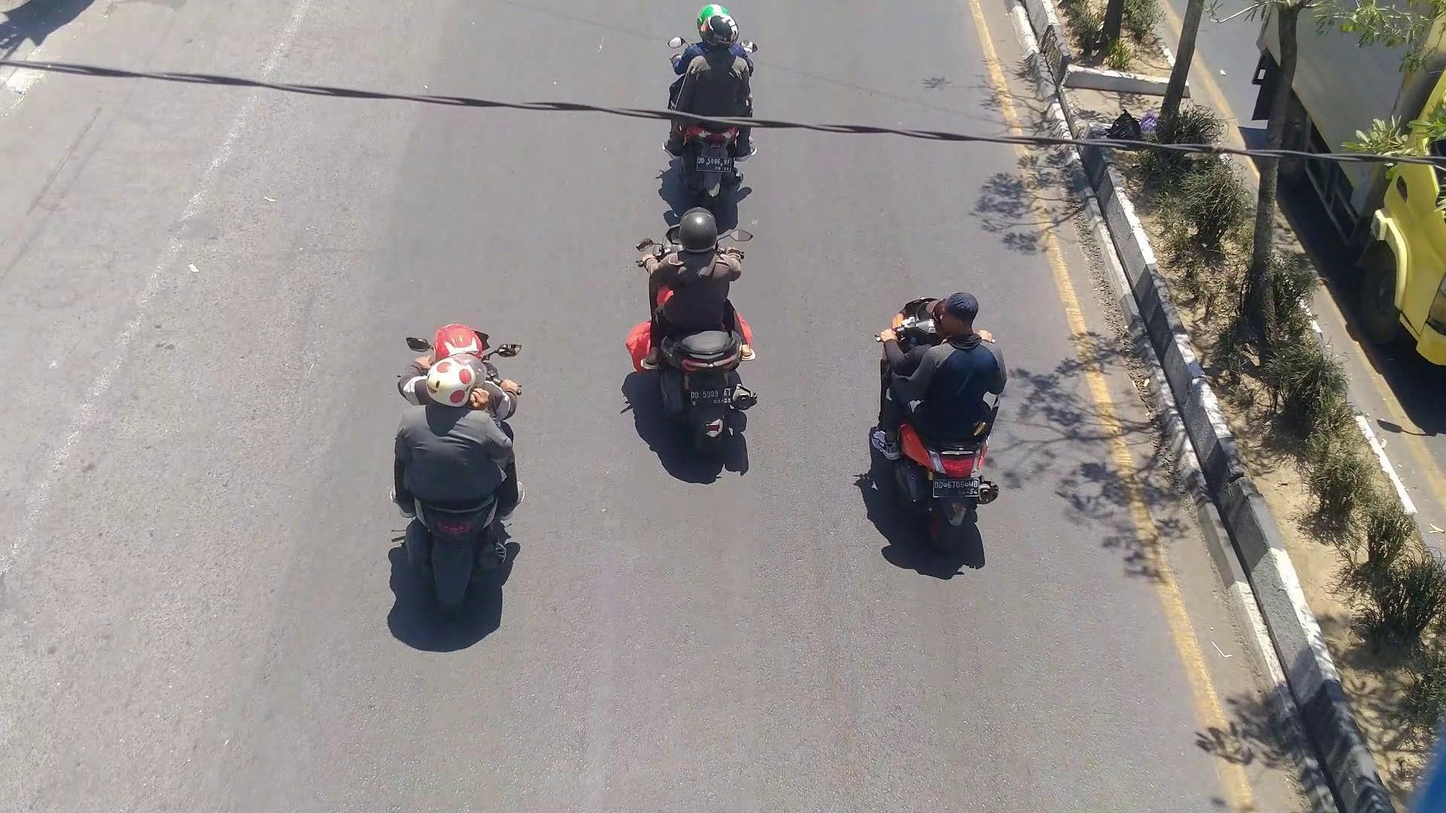Helmet: (420, 353, 488, 413), (668, 203, 730, 262), (431, 323, 486, 367), (696, 9, 744, 55), (693, 2, 735, 36)
bike: (390, 331, 531, 607), (876, 292, 1001, 544), (635, 225, 757, 457), (664, 32, 762, 206)
no-helmet: (940, 290, 983, 341)
number-plate: (687, 386, 735, 410), (932, 477, 981, 500)
rider: (390, 353, 527, 526), (873, 289, 1006, 458), (638, 206, 757, 373), (658, 12, 760, 164)
